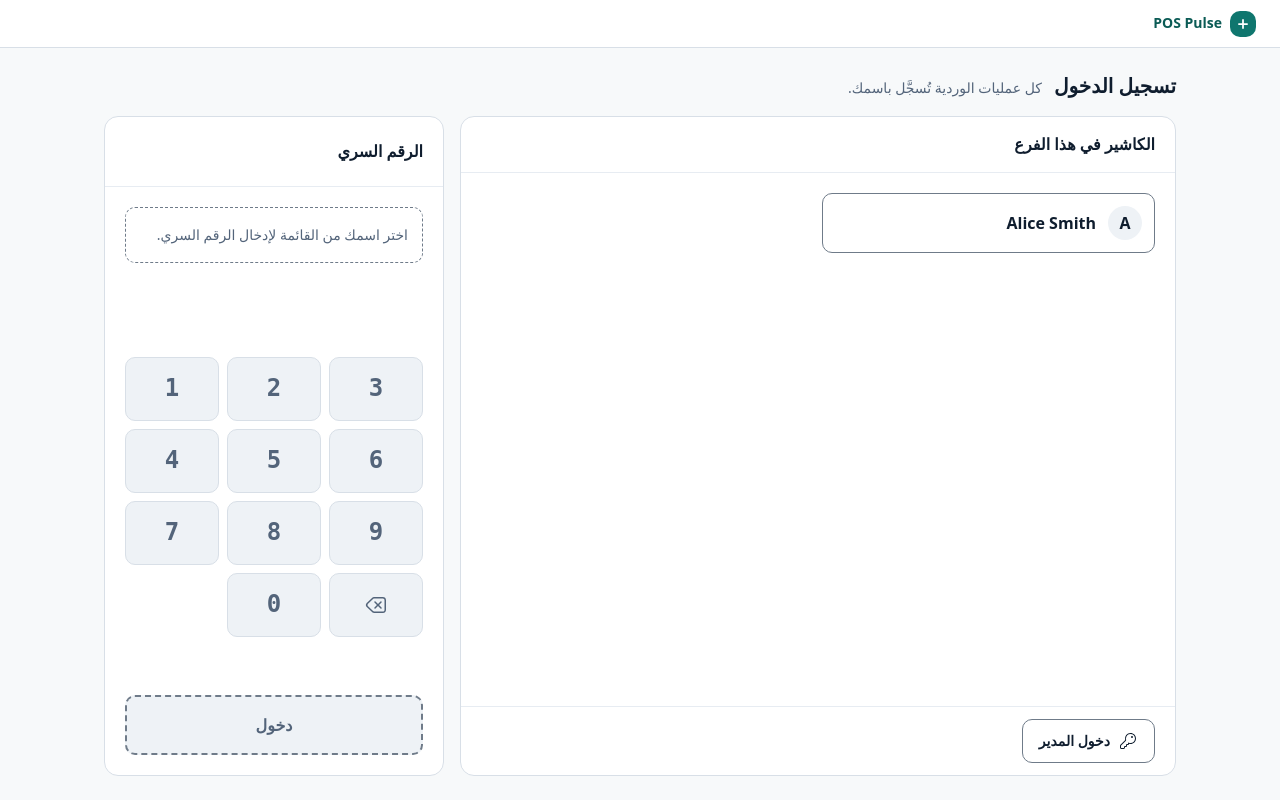
SignInRoute — RT-244 two-zone stage › «دخول المدير» swaps the PIN column for the manager form, and «رجوع» swaps it back
The width and height of the screenshot is (1280, 800).
Expected: the button with test id "roster-item-0" is shown, [822,193,1155,253]
Click the button with test id "sign-in-manager-entry" at (1088,741), box [1022,719,1155,763]
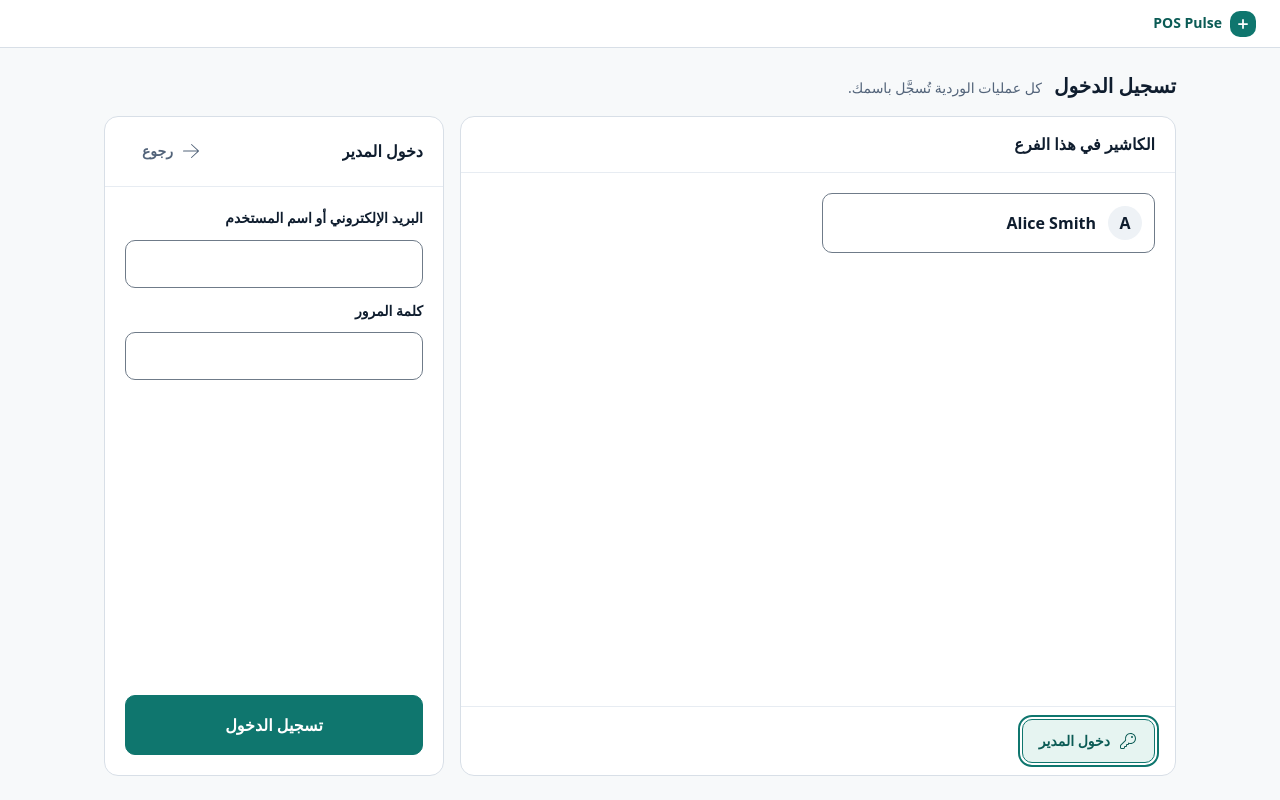
Now the form with test id "manager-admin-sign-in-form" is shown, box [105,187,443,775]
Now the heading "دخول المدير" is shown, box [342,140,423,162]
Now the element with test id "pin-pad-preview" is gone
Click the button with test id "sign-in-manager-back" at (172,151), box [125,129,218,173]
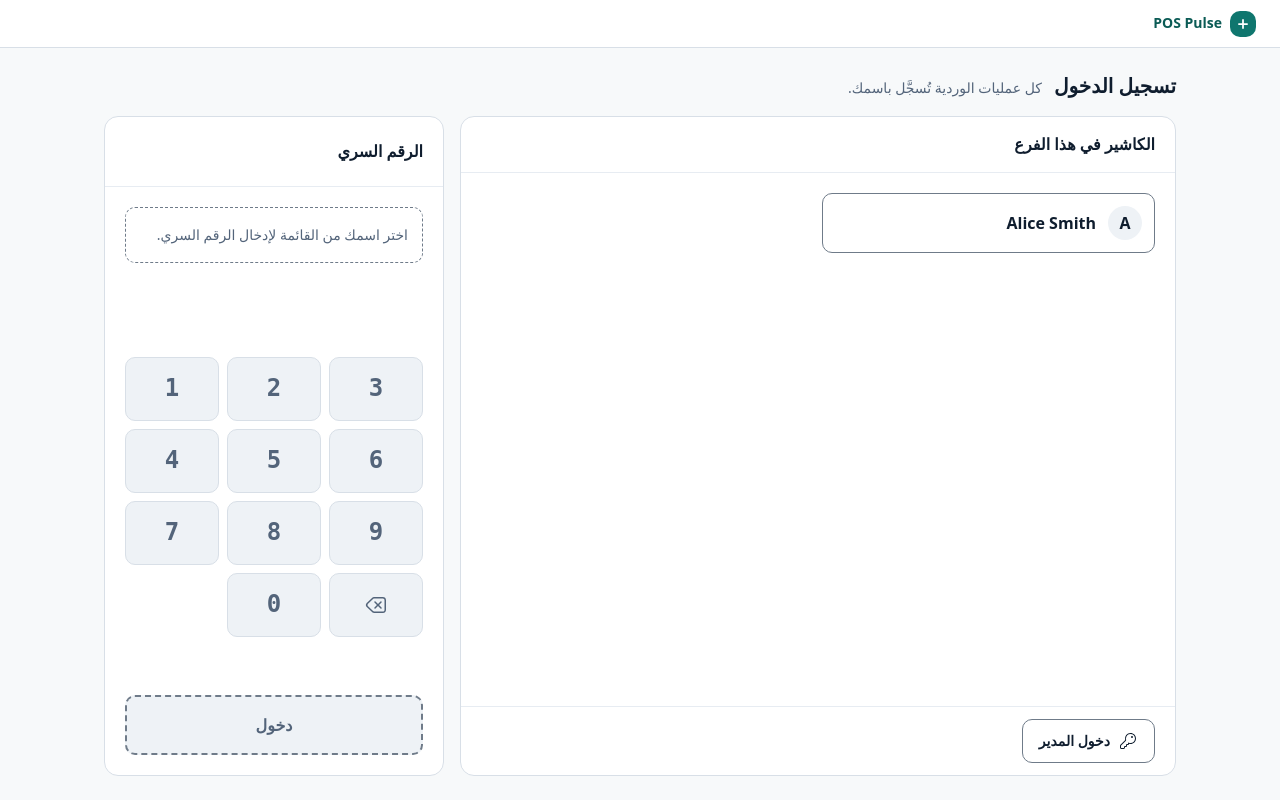
Now the form with test id "manager-admin-sign-in-form" is gone
Now the element with test id "pin-pad-preview" is shown, box [125,207,423,755]
